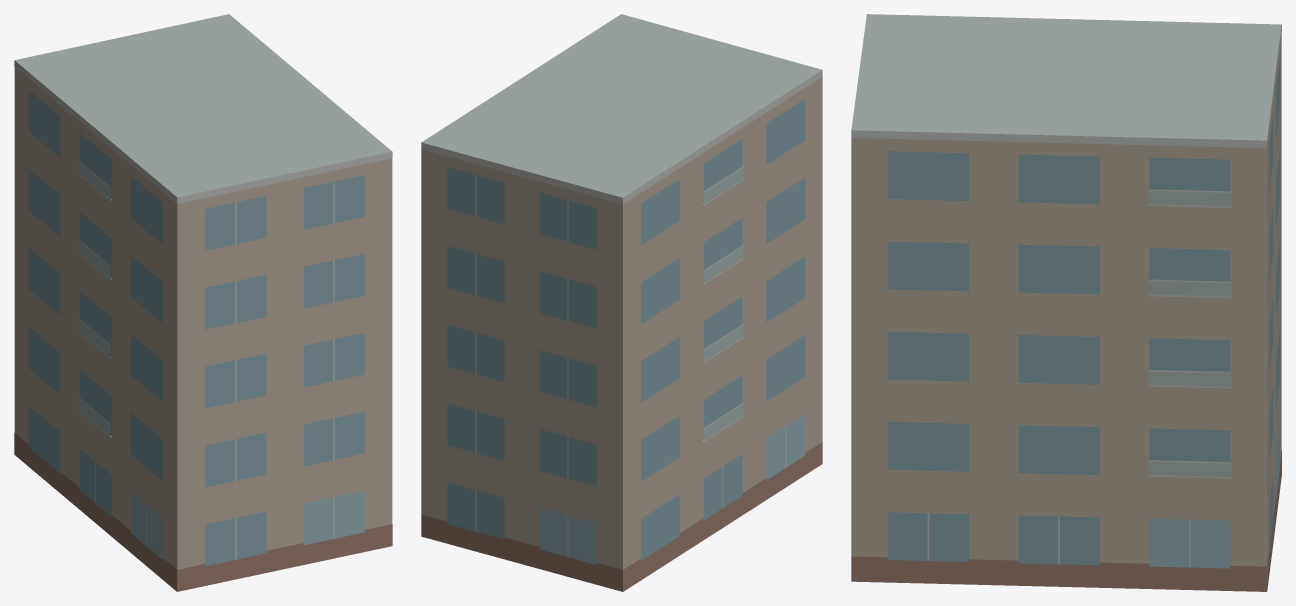
Rendered from survey-upis-32894075.glb.
3 views of the same model, side by side, from view 1: azimuth 30°, elevation 25°; view 2: azimuth 150°, elevation 25°; view 3: azimuth 270°, elevation 25° (orthographic). The views are drawn at different scales.
Parts seen in each view (by area): view 1: survey-upis-32894075.tmp; view 2: survey-upis-32894075.tmp; view 3: survey-upis-32894075.tmp.
Boxes of the visible parts, x1,y1,x2,y2 form: survey-upis-32894075.tmp: (14, 14, 392, 591); survey-upis-32894075.tmp: (421, 14, 822, 591); survey-upis-32894075.tmp: (851, 14, 1281, 591).
Size of the model in its own units: 8.73 by 14.49 by 12.54.
